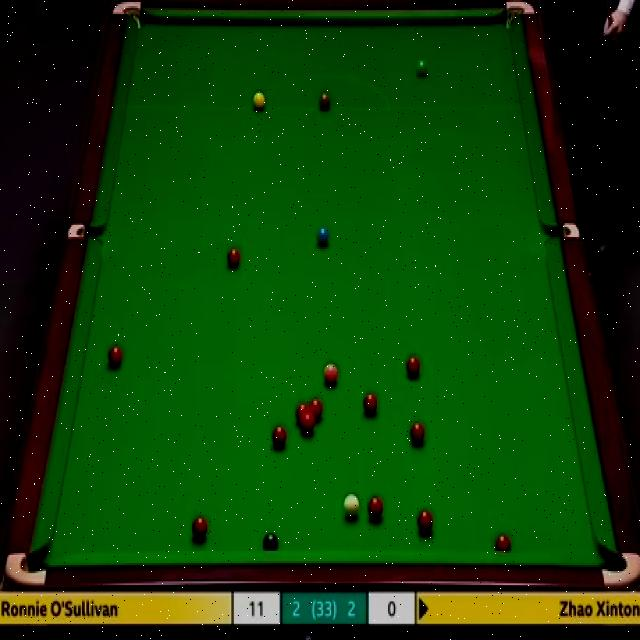black-ball: (262, 532, 281, 553)
blue-ball: (315, 226, 331, 248)
brown-ball: (318, 88, 331, 110)
green-ball: (413, 57, 428, 79)
pink-ball: (323, 364, 339, 388)
red-ball: (106, 342, 123, 372), (190, 514, 208, 542), (360, 390, 378, 416), (366, 497, 384, 522), (406, 353, 422, 380), (416, 510, 433, 534), (272, 425, 288, 450), (295, 403, 309, 428), (496, 532, 513, 552), (309, 398, 323, 422), (411, 421, 424, 446), (301, 416, 316, 436), (227, 248, 240, 268)
white-ball: (344, 495, 358, 520)
yellow-ball: (252, 92, 266, 110)
